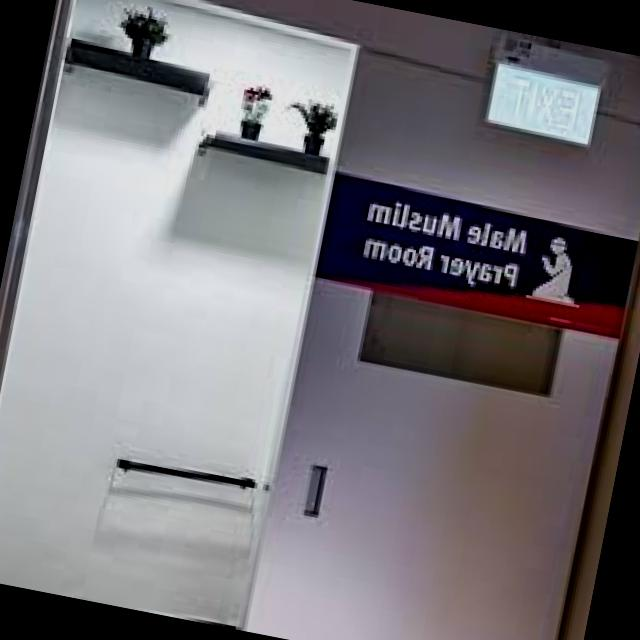surau_icon: (520, 225, 596, 320)
